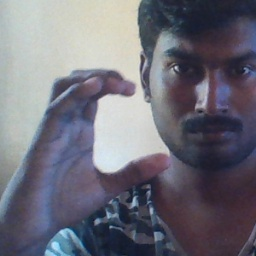C: (40, 68, 172, 193)
